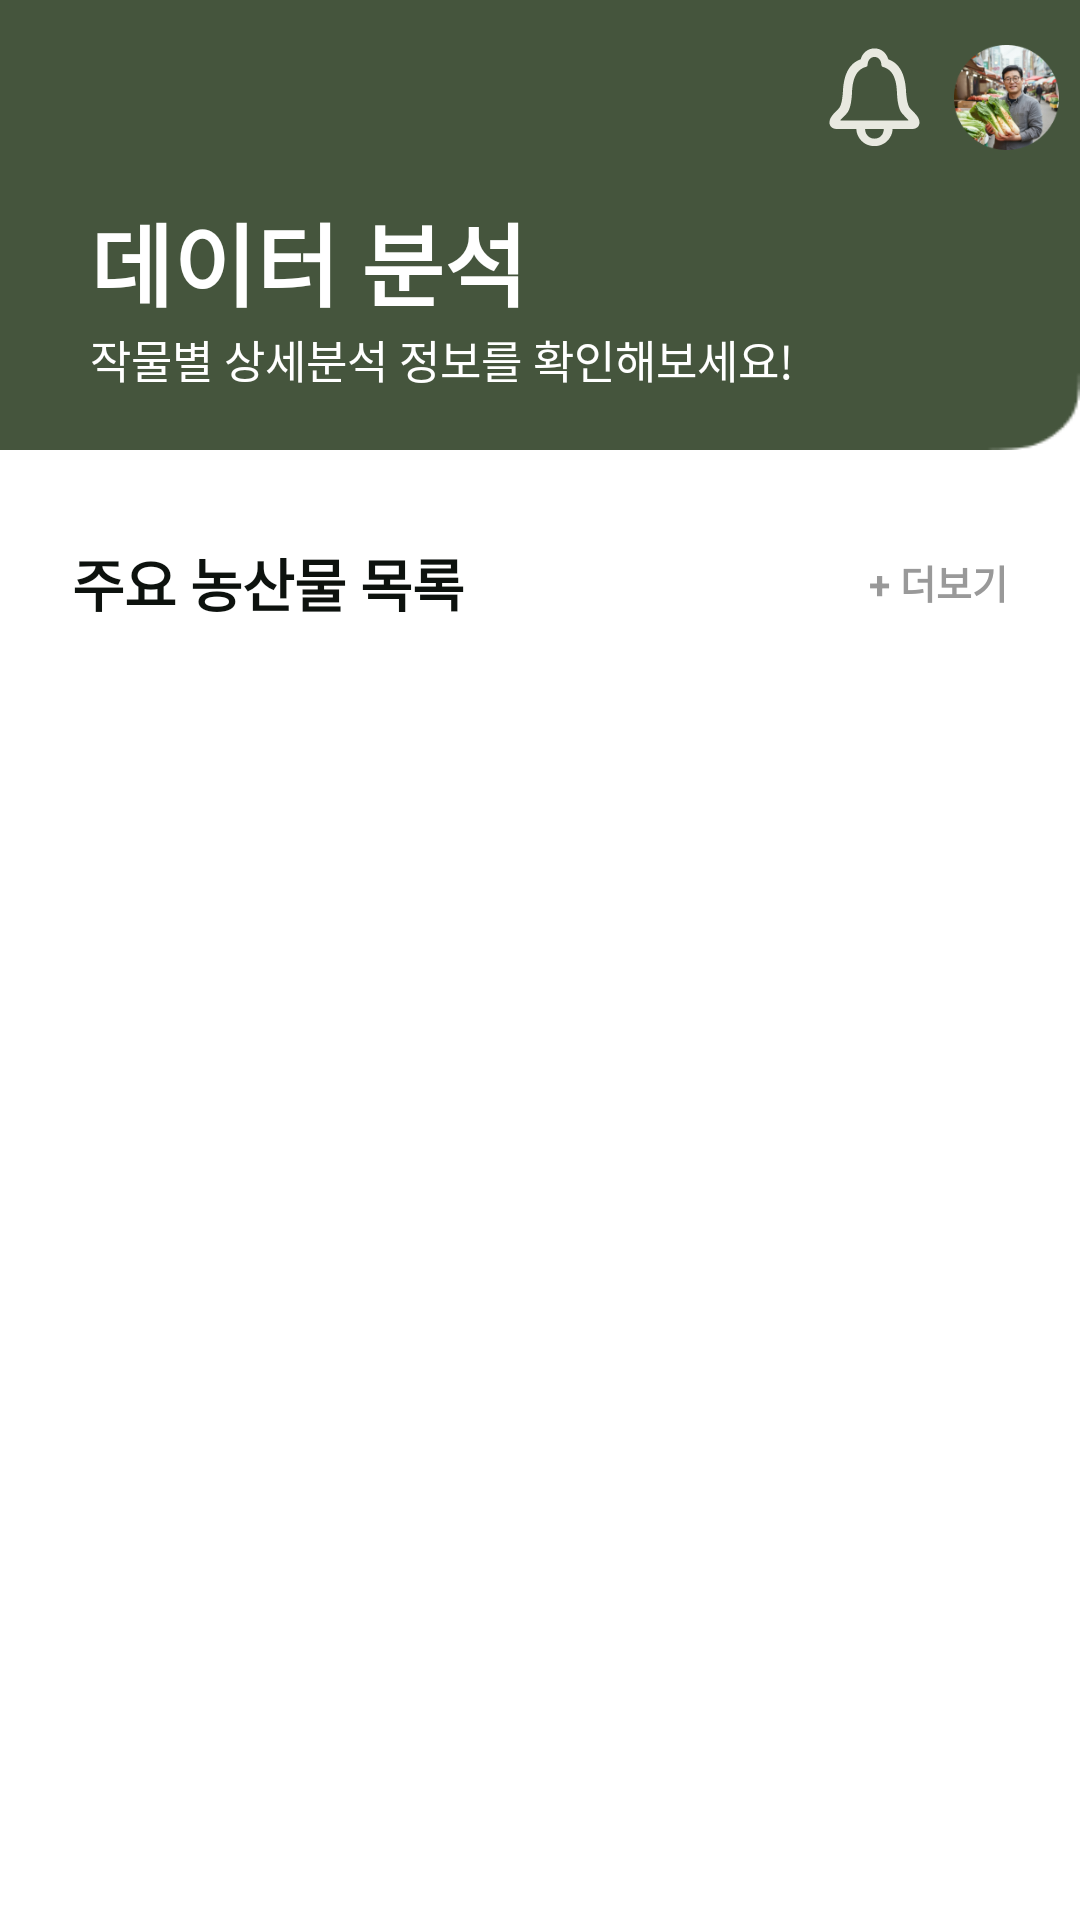

Where to tap for icons on this 1080*1920 app screen, as [x,y]:
bell: [874,97]
profile: [1006,97]
